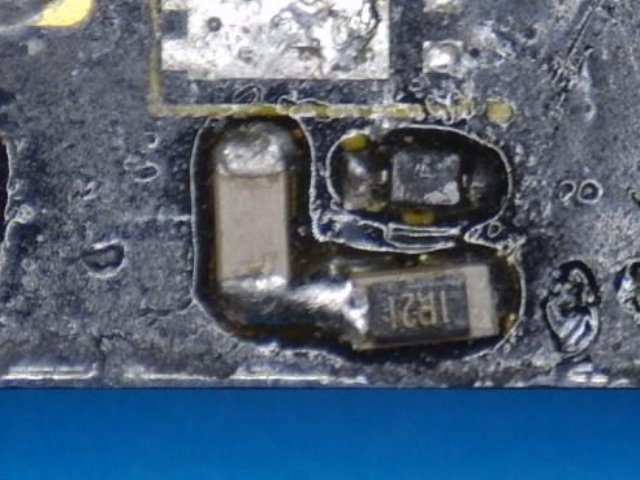pcb_defect: (323, 252, 506, 351), (215, 254, 366, 342)
